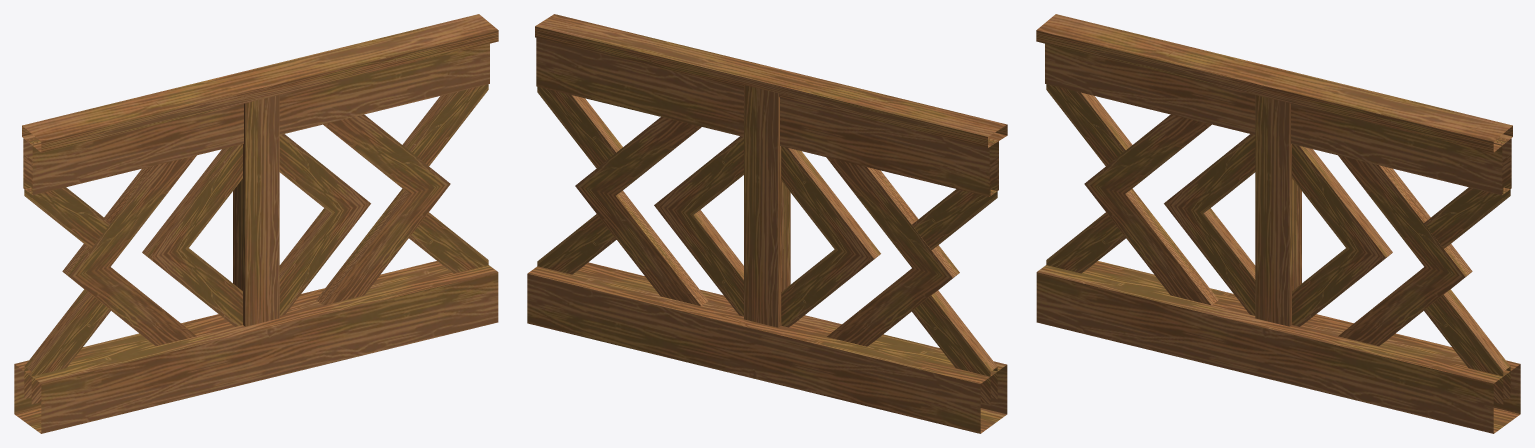
File: Balcony_Cross_Straight.glb
The picture shows the model from 3 angles, left to right: view 1: azimuth 30°, elevation 25°; view 2: azimuth 150°, elevation 25°; view 3: azimuth 330°, elevation 25°; orthographic projection.
Visible parts, largest first — view 1: Balcony_Cross_Straight; view 2: Balcony_Cross_Straight; view 3: Balcony_Cross_Straight.
Boxes of the visible parts, box(x1,y1,x2,y2) form: Balcony_Cross_Straight: box(14, 14, 498, 433); Balcony_Cross_Straight: box(527, 14, 1007, 433); Balcony_Cross_Straight: box(1036, 14, 1520, 433).
Size of the model in its own units: 2 by 1.23 by 0.2063.
1 material, 1 textured.
